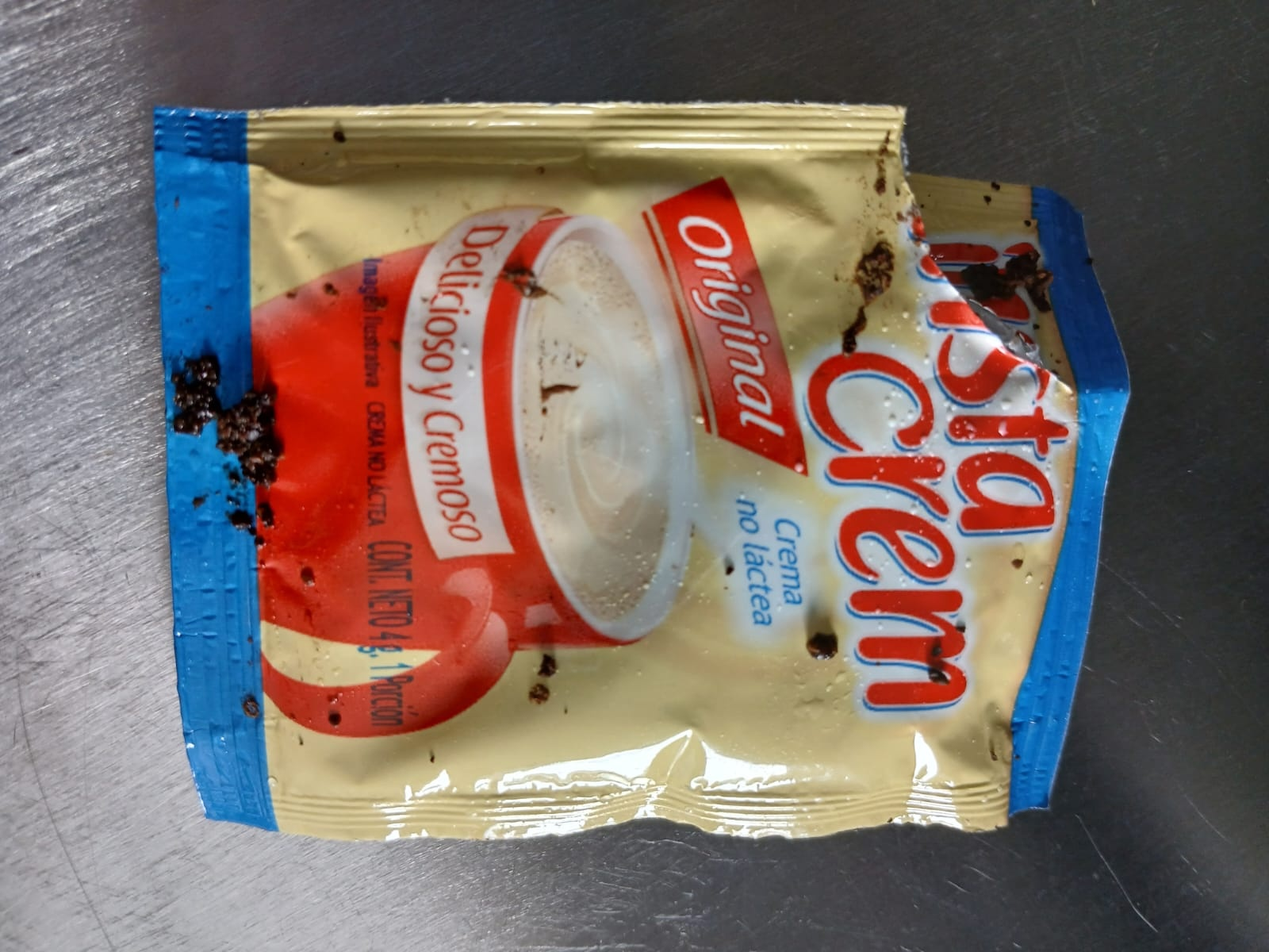Ordinario: (151, 104, 1131, 843)
